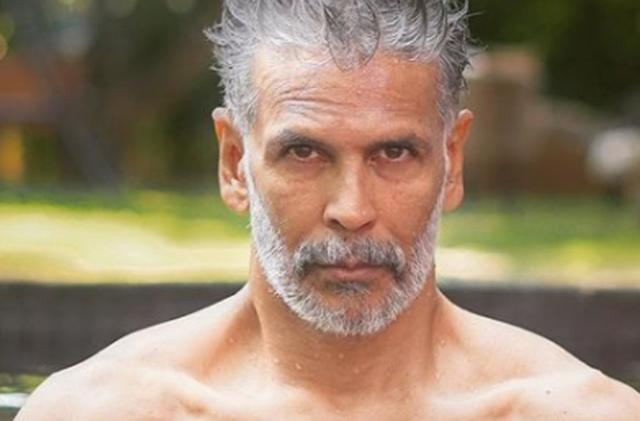forehead: (278, 81, 316, 111), (320, 92, 346, 112)
